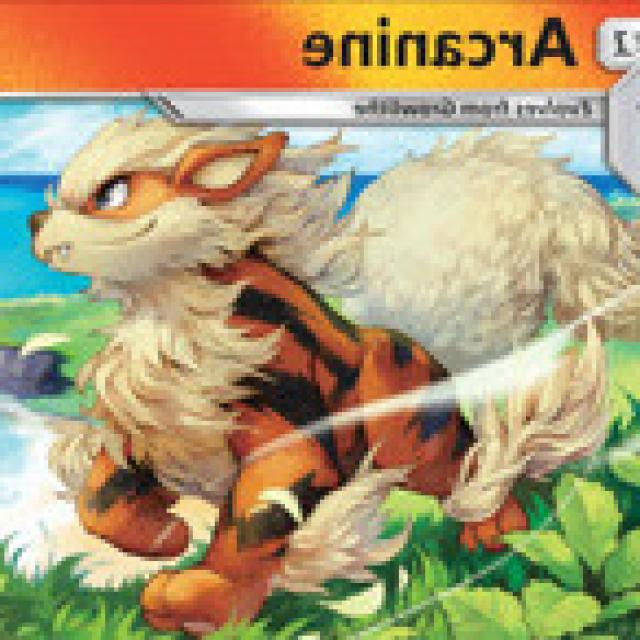Arcanine: (59, 133, 520, 597)
